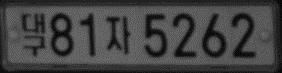1: (76, 12, 102, 57)
2: (230, 12, 256, 58), (171, 12, 196, 57)
5: (144, 12, 167, 58)
6: (200, 13, 226, 58)
8: (49, 12, 74, 57)
대구_V: (20, 11, 46, 56)
자: (105, 15, 131, 54)
